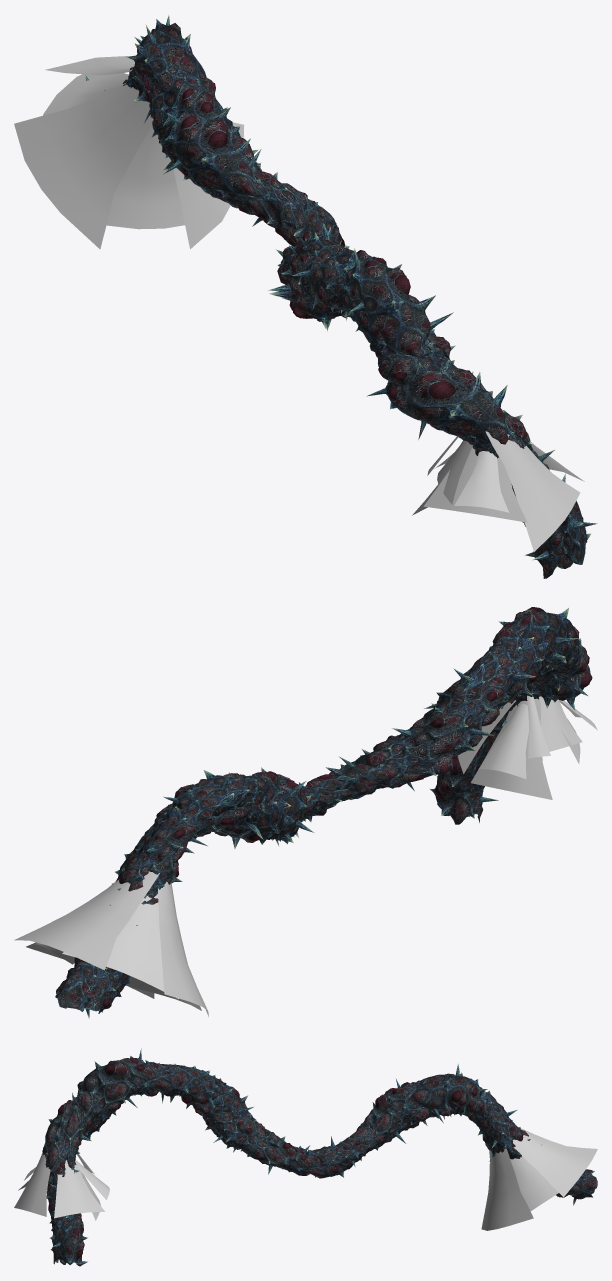
Rendered from backup.fbx.
3 renders of one model, top to bottom at view 1: azimuth 30°, elevation 25°; view 2: azimuth 150°, elevation 25°; view 3: azimuth 270°, elevation 25°, orthographic. The views are drawn at different scales.
Parts seen in each view (by area): view 1: LODGroup_1_MainMesh_1_SubMesh_1, LODGroup_1_MainMesh_2_SubMesh_1, LODGroup_1_MainMesh_2_SubMesh_2; view 2: LODGroup_1_MainMesh_2_SubMesh_2, LODGroup_1_MainMesh_1_SubMesh_1, LODGroup_1_MainMesh_2_SubMesh_1; view 3: LODGroup_1_MainMesh_2_SubMesh_1, LODGroup_1_MainMesh_2_SubMesh_2, LODGroup_1_MainMesh_1_SubMesh_1.
Part boxes in pixels (<box>): LODGroup_1_MainMesh_1_SubMesh_1: <box>14,56,584,551</box>; LODGroup_1_MainMesh_2_SubMesh_1: <box>84,15,597,566</box>; LODGroup_1_MainMesh_2_SubMesh_2: <box>104,19,590,578</box>; LODGroup_1_MainMesh_2_SubMesh_2: <box>76,608,583,1013</box>; LODGroup_1_MainMesh_1_SubMesh_1: <box>14,695,597,1016</box>; LODGroup_1_MainMesh_2_SubMesh_1: <box>55,607,592,1018</box>; LODGroup_1_MainMesh_2_SubMesh_1: <box>42,1048,597,1266</box>; LODGroup_1_MainMesh_2_SubMesh_2: <box>48,1056,592,1264</box>; LODGroup_1_MainMesh_1_SubMesh_1: <box>14,1126,597,1230</box>.
Bounding box in the file's own units: 786 × 915 × 2610.
